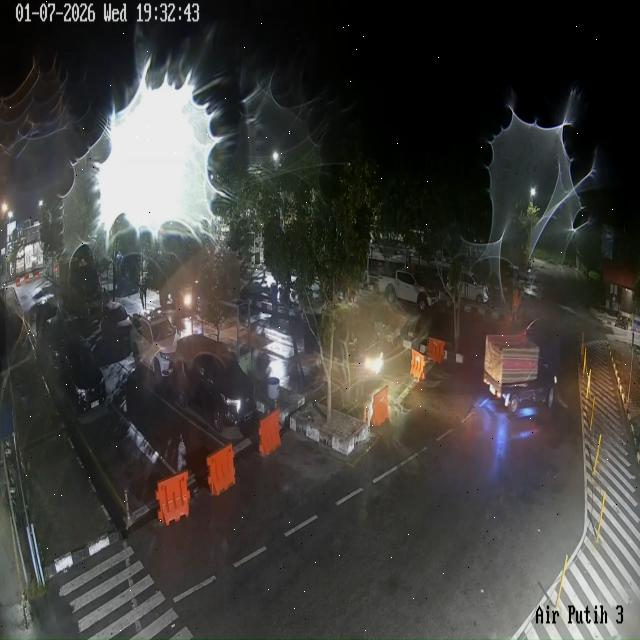Golongan IVA: (172, 334, 256, 433), (38, 315, 106, 423), (130, 310, 178, 382), (101, 302, 131, 342)
Golongan IVB: (484, 328, 558, 421), (378, 270, 439, 312)
